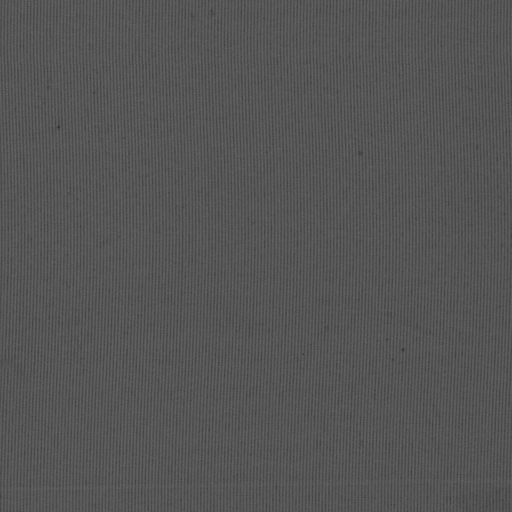defect: (1, 478, 512, 495)
